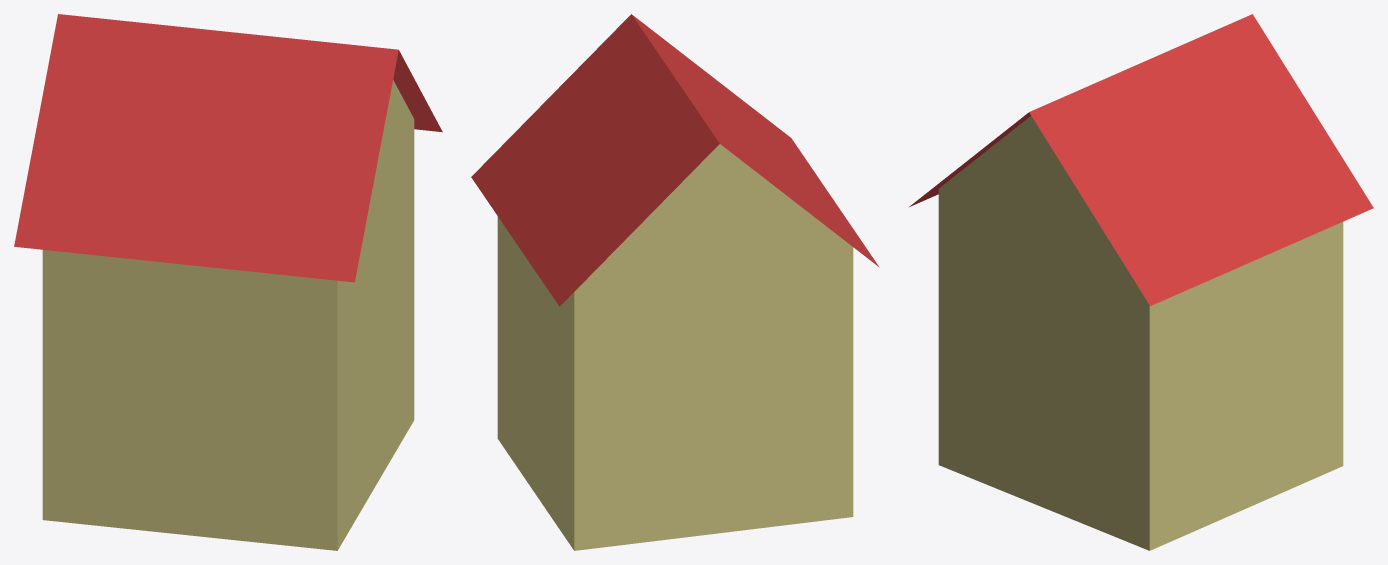
3 views of the same model, side by side, from view 1: azimuth 30°, elevation 25°; view 2: azimuth 150°, elevation 25°; view 3: azimuth 270°, elevation 25° (orthographic). The views are drawn at different scales.
Bounding box in the file's own units: 16.11 × 16.12 × 15.37.
